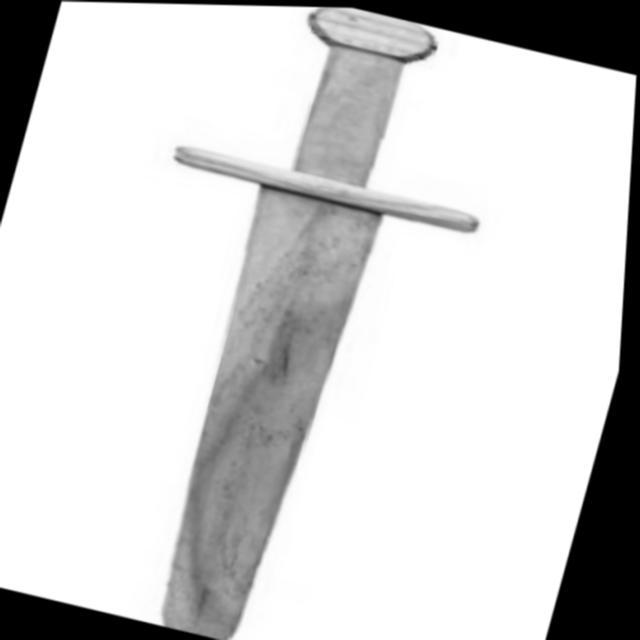weapon: (55, 1, 528, 640)
